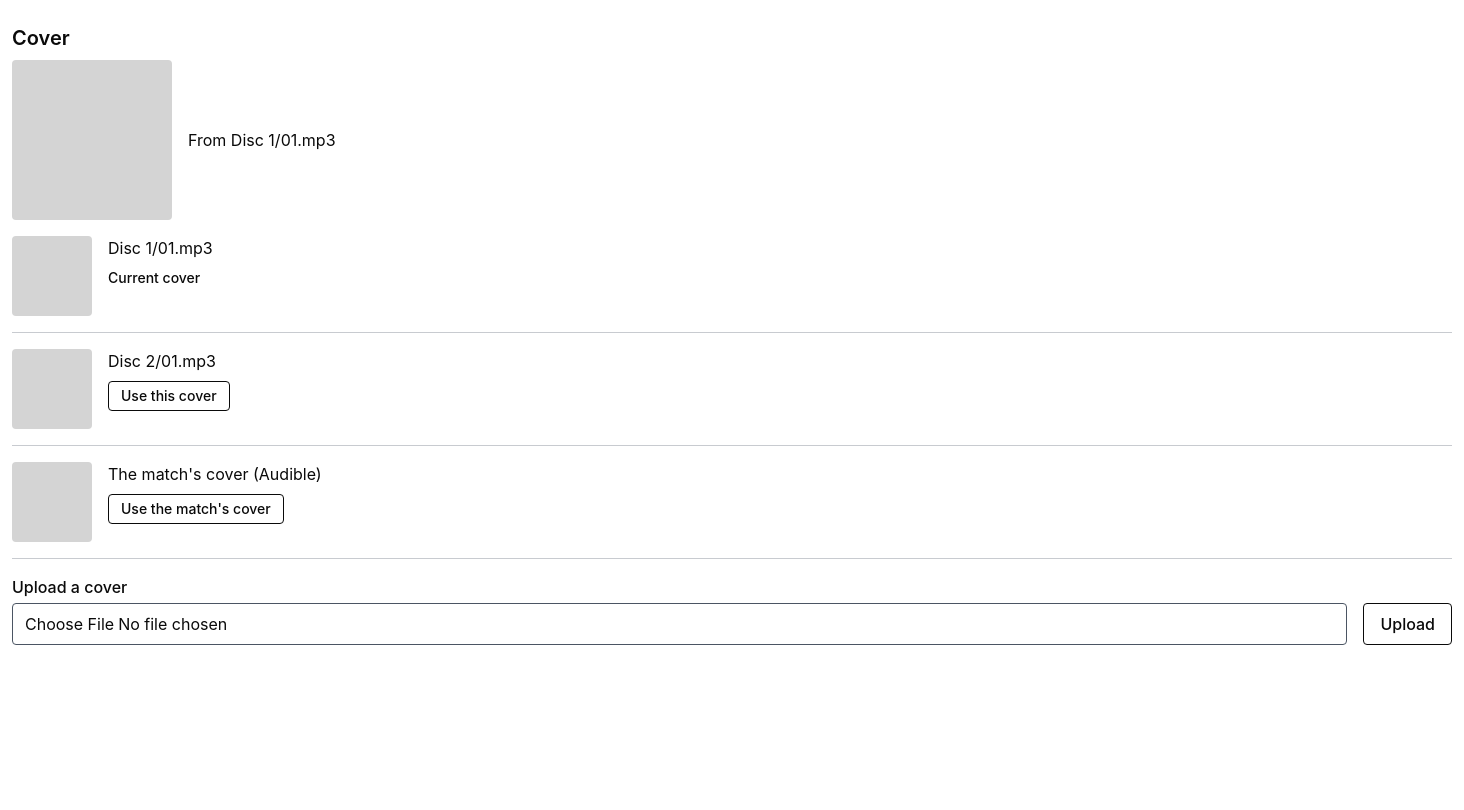
it: CoverPicker › shows a 502 downloadFailed message as an alert
Check: the heading "Cover" is shown, box x1=12 y1=26 x2=70 y2=50
Step 1. Click the button with aria-label "Use the match's cover: Audible" → (196, 509), box x1=108 y1=494 x2=284 y2=524
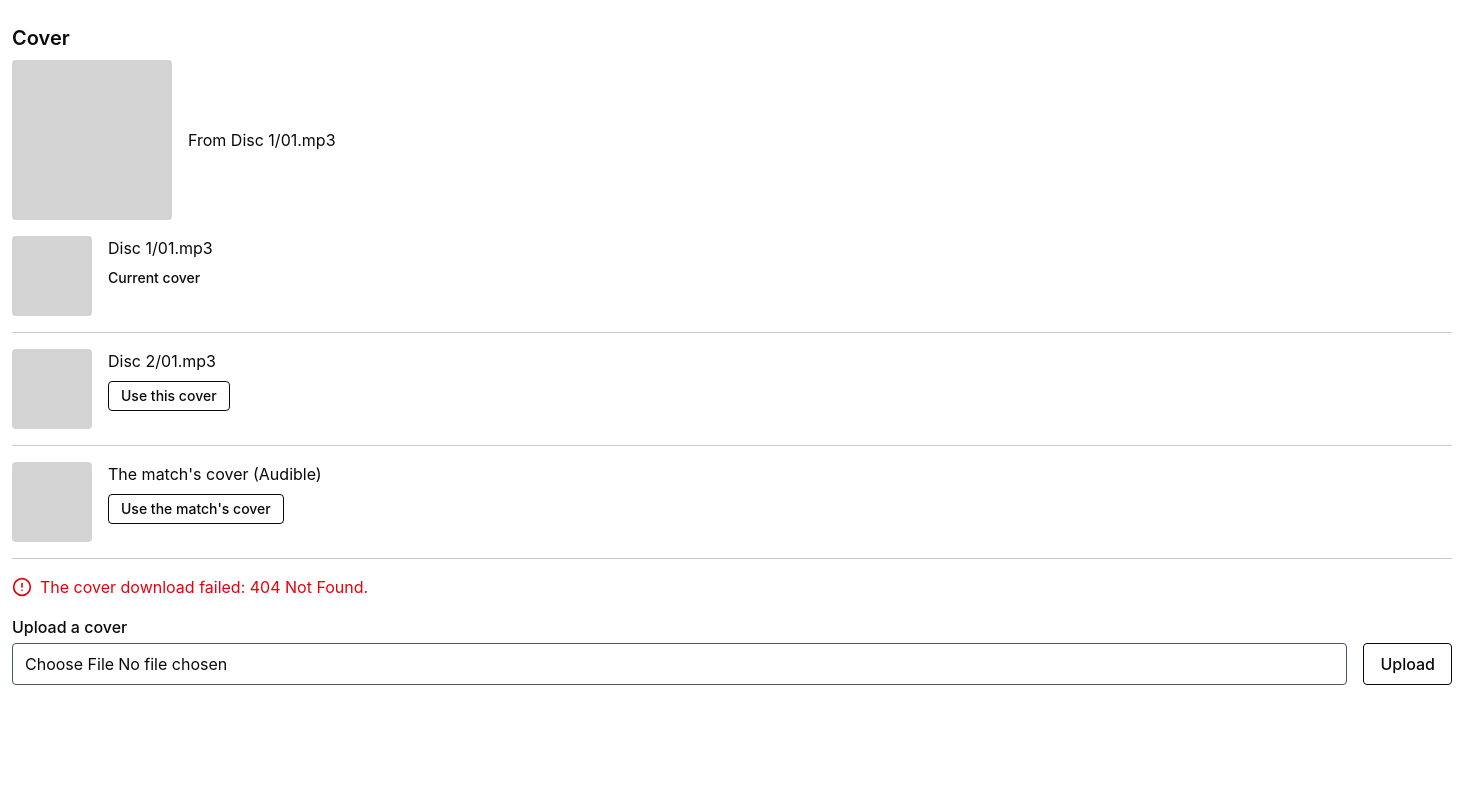
Check: the text "From Disc 1/01.mp3" is shown, box x1=188 y1=128 x2=336 y2=152
Check: the message reads "The cover download failed: 404 Not Found.", box x1=40 y1=577 x2=368 y2=597
